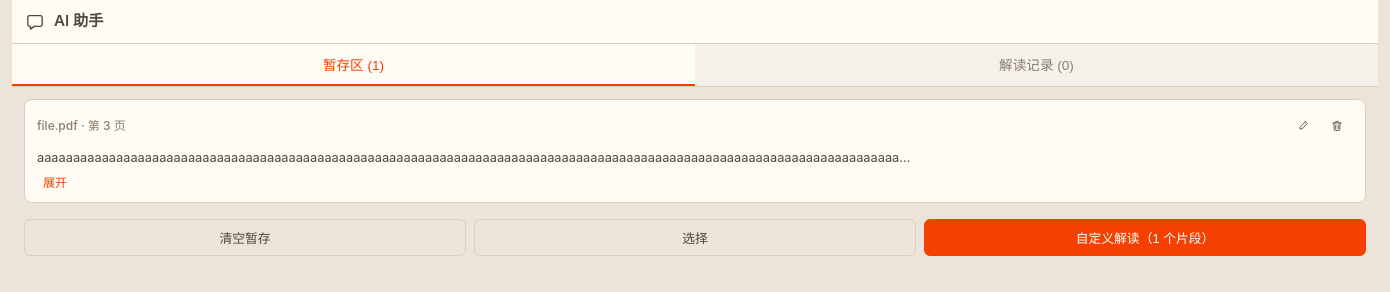
Scenario: AiChatPanel › expands and collapses long stash text
This screenshot has width=1390, height=292.
Click the button "展开".
click(55, 182)  # box [37,171,73,192]
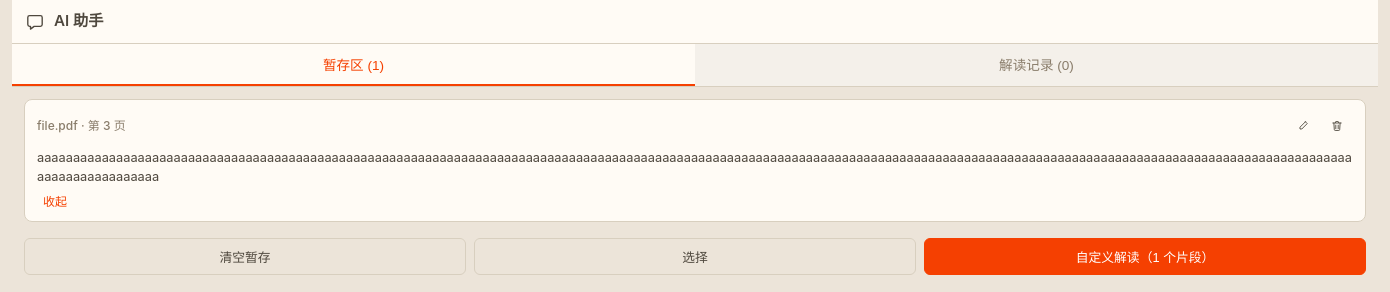
Result: the button "收起" is shown at [37,190,73,211]
